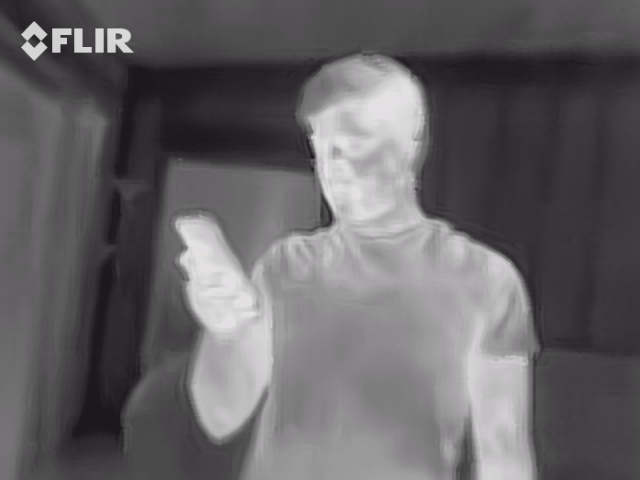head: (294, 51, 430, 220)
